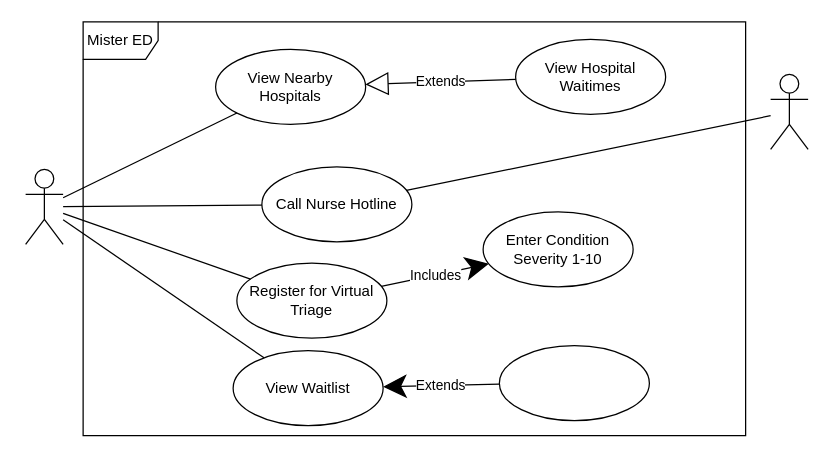
Some shapes in this 831 by 458 pixel diagram are drawn without their labels. The shapes that lost their labels are listed below. From the top down, each one's centre as x and y in pixels, then its label:
point (788, 111): Nurse
point (43, 206): Patient
point (573, 382): Leave Waitlist
